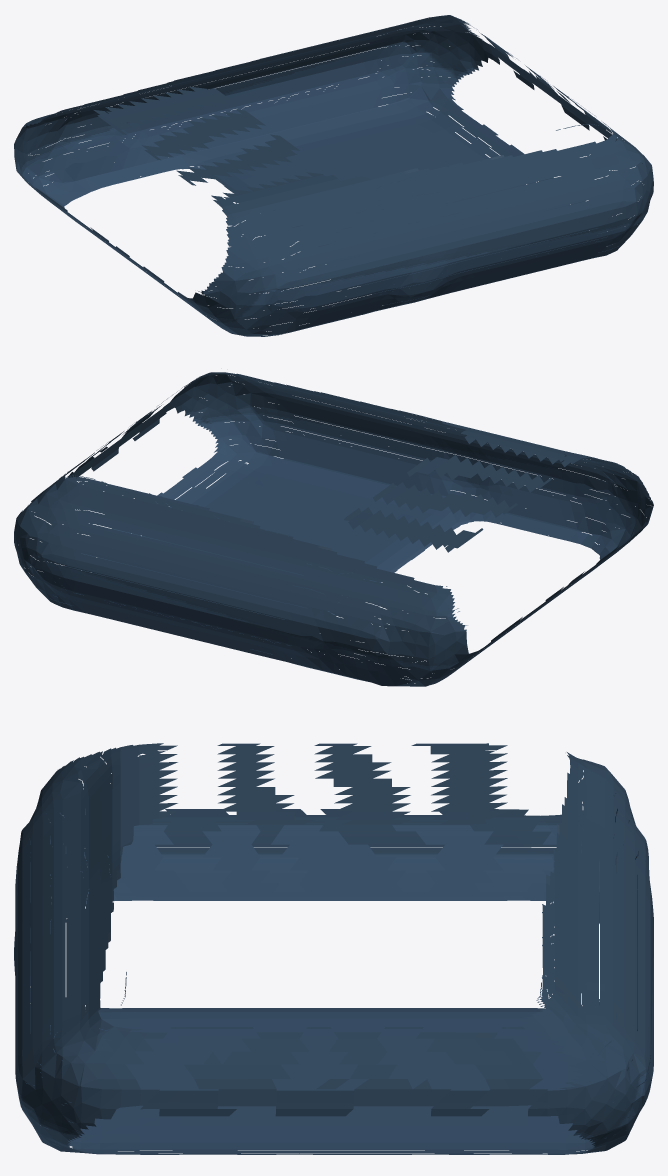
3 renders of one model, top to bottom at view 1: azimuth 30°, elevation 25°; view 2: azimuth 150°, elevation 25°; view 3: azimuth 270°, elevation 25°, orthographic. The views are drawn at different scales.
Parts seen in each view (by area): view 1: reconstruction; view 2: reconstruction; view 3: reconstruction.
Boxes of the visible parts, x1,y1,x2,y2 form: reconstruction: (14, 15, 653, 336); reconstruction: (14, 372, 653, 686); reconstruction: (14, 743, 653, 1154).
Size of the model in its own units: 1 by 0.2853 by 0.8363.
Materials: 1 (1 with a texture image).
